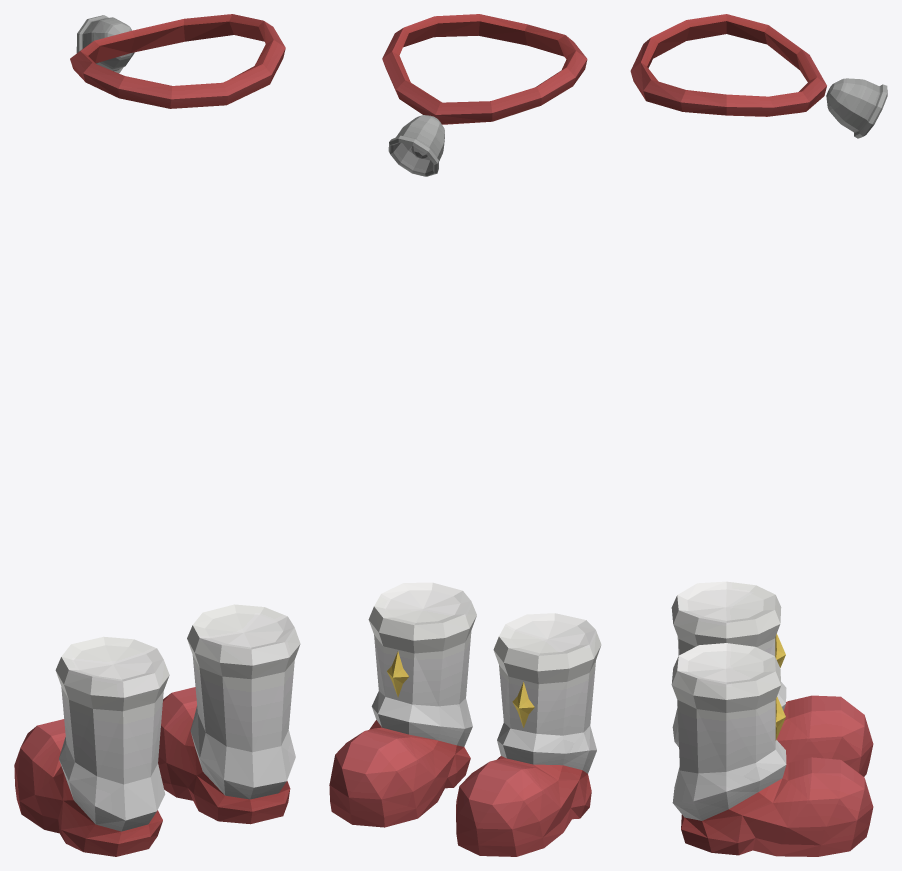
The model's file is NPC_AP24BellShoes.glb.
3 views of the same model, side by side, from view 1: azimuth 30°, elevation 25°; view 2: azimuth 150°, elevation 25°; view 3: azimuth 270°, elevation 25° (orthographic). The views are drawn at different scales.
Visible parts, largest first — view 1: NPC_AP24BellShoes; view 2: NPC_AP24BellShoes; view 3: NPC_AP24BellShoes.
Boxes of the visible parts, left/top/right/bottom form: NPC_AP24BellShoes: left=14, top=14, right=300, bottom=856; NPC_AP24BellShoes: left=329, top=14, right=601, bottom=856; NPC_AP24BellShoes: left=630, top=14, right=887, bottom=856.
Bounding box in the file's own units: 2.66 × 8.65 × 2.68.
1 material, 1 textured.
